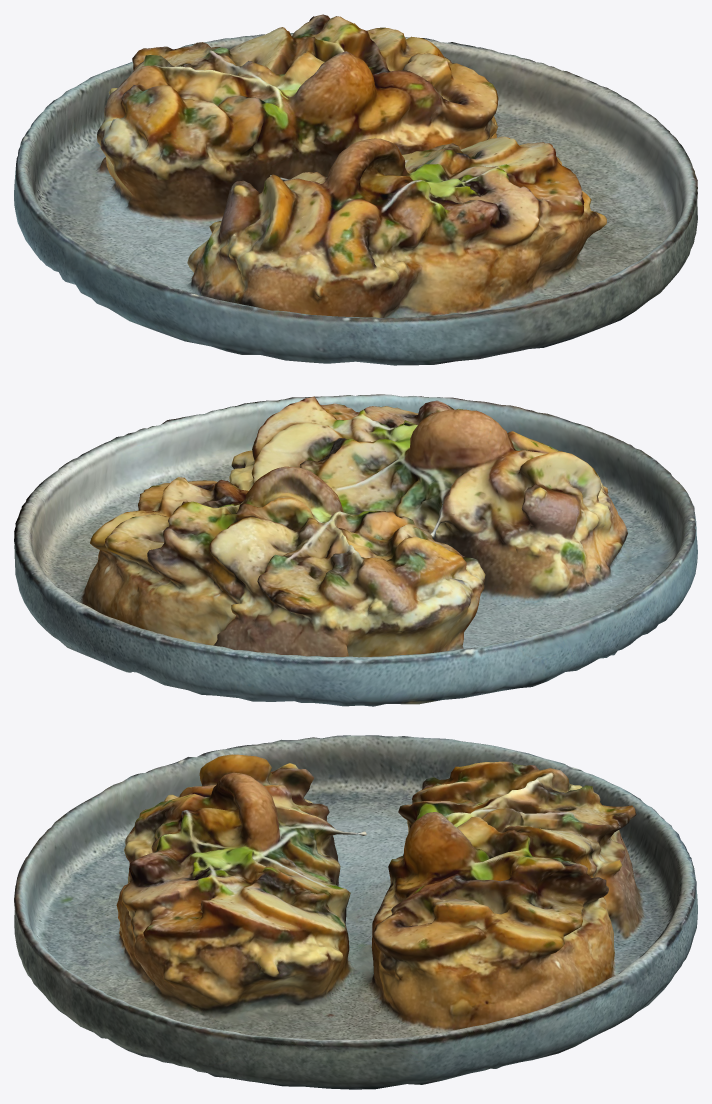
File: tartine-champignons.ar.glb
The picture shows the model from 3 angles, top to bottom: view 1: azimuth 30°, elevation 25°; view 2: azimuth 150°, elevation 25°; view 3: azimuth 270°, elevation 25°; orthographic projection.
Visible parts, largest first — view 1: /ObjectCapture/Geometry/Mesh; view 2: /ObjectCapture/Geometry/Mesh; view 3: /ObjectCapture/Geometry/Mesh.
Boxes of the visible parts, box(x1,y1,x2,y2) form: /ObjectCapture/Geometry/Mesh: box(14, 14, 697, 365); /ObjectCapture/Geometry/Mesh: box(14, 394, 697, 706); /ObjectCapture/Geometry/Mesh: box(14, 735, 697, 1089).
Bounding box in the file's own units: 0.2081 × 0.0541 × 0.2078.
1 material, 1 textured.
